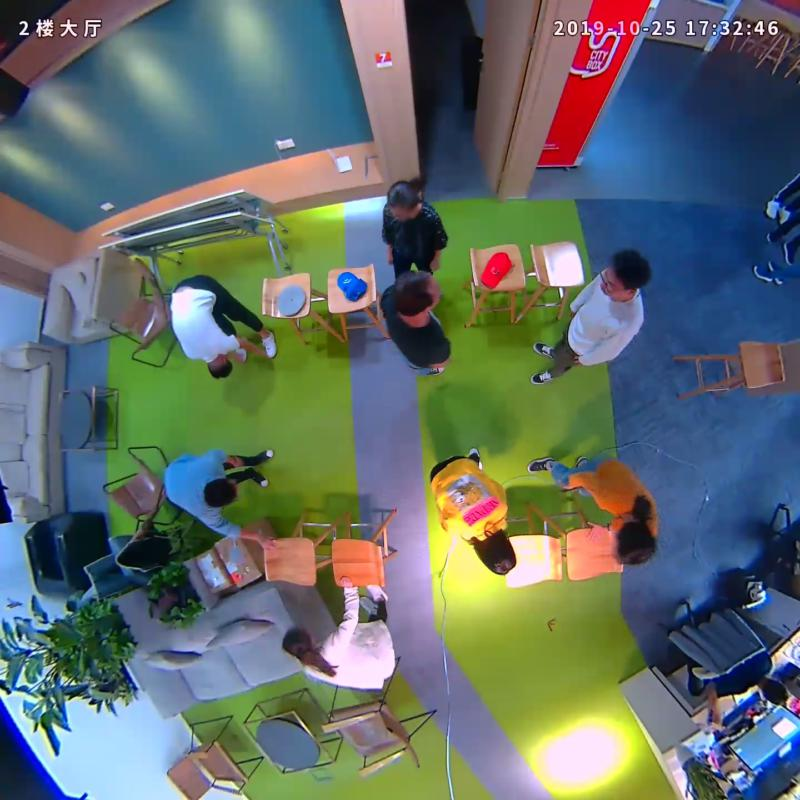head: (594, 246, 656, 306), (387, 266, 450, 322), (467, 528, 523, 583), (609, 517, 662, 569), (375, 175, 428, 223), (271, 618, 321, 663), (198, 472, 240, 512), (195, 351, 237, 385)
